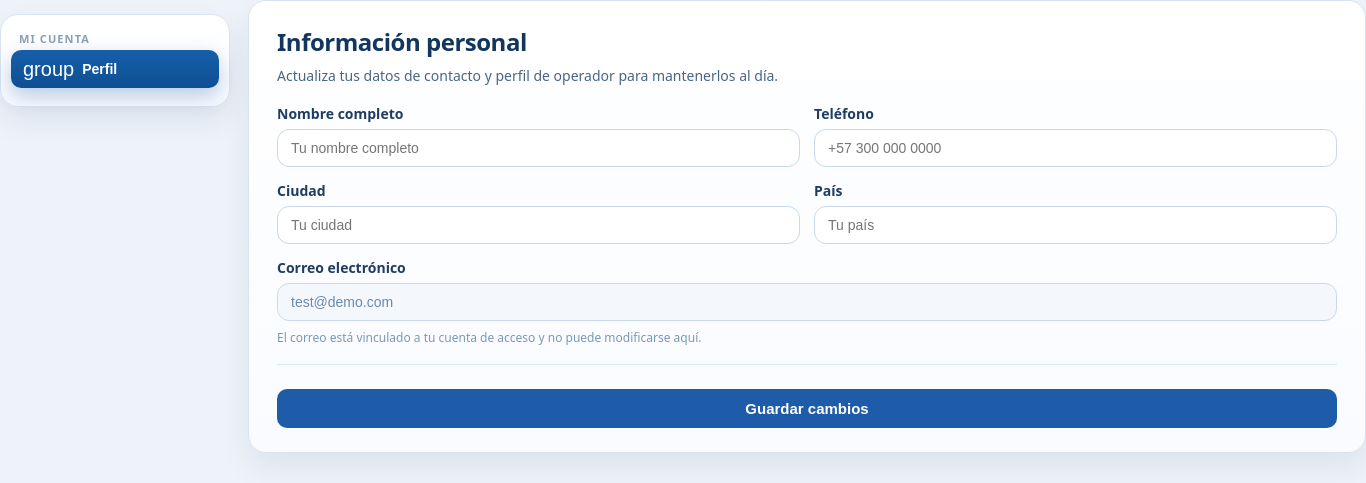
Scenario: SettingsModule › guarda cambios del perfil y muestra confirmacion
Type "Jorge Test" into the field labelled "Nombre completo". click: {"x": 538, "y": 148}
box: [277, 129, 800, 167]
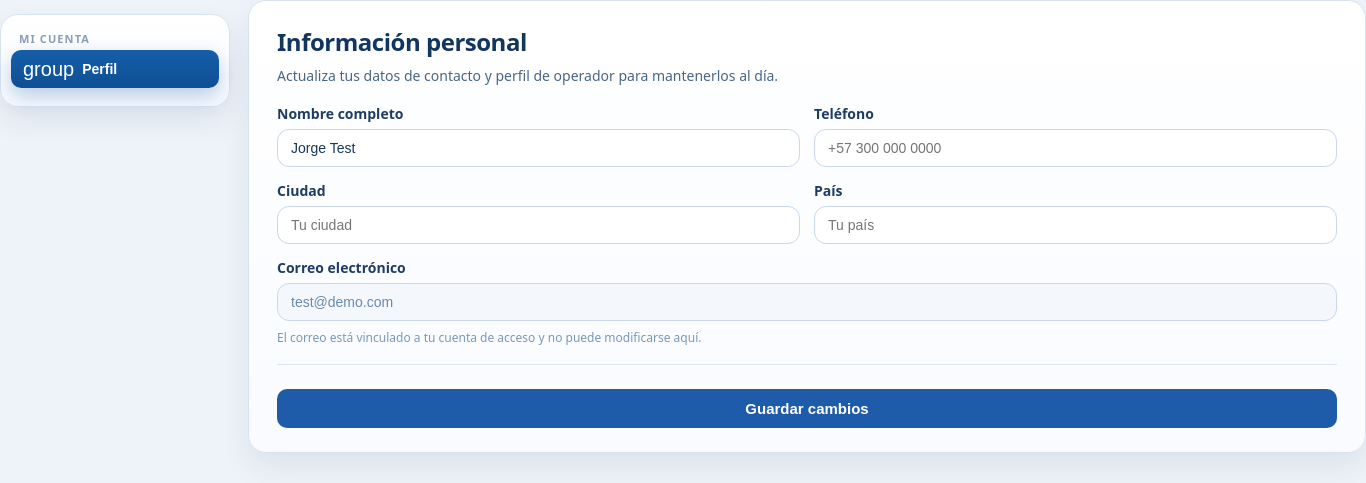
Click the button "Guardar cambios". click: {"x": 807, "y": 408}
box: [277, 389, 1337, 428]
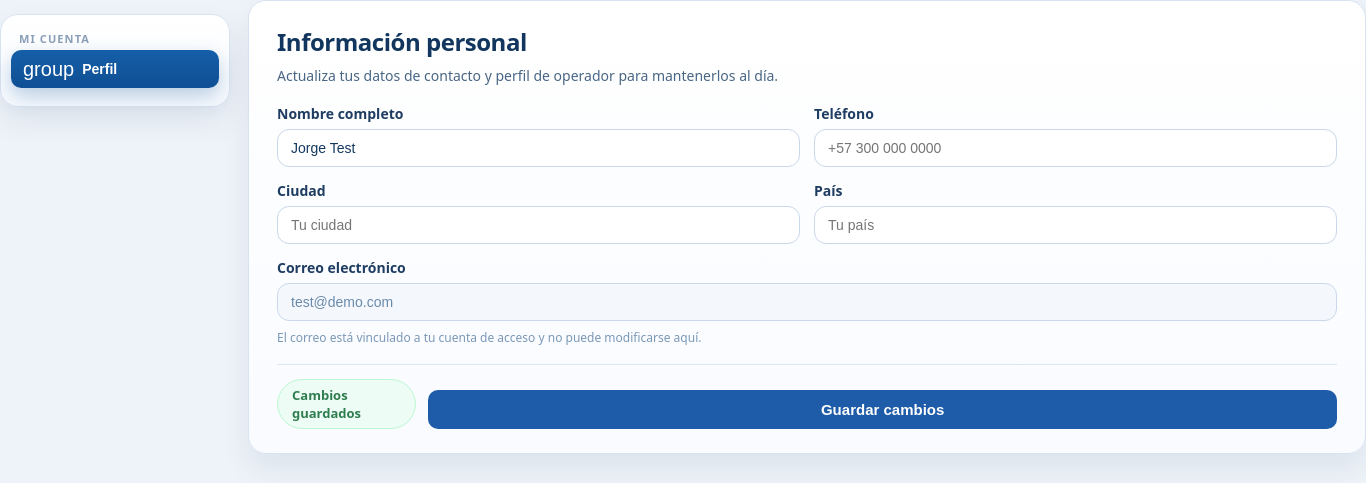
Check: the text "Cambios guardados" is shown, box [277, 379, 416, 429]
